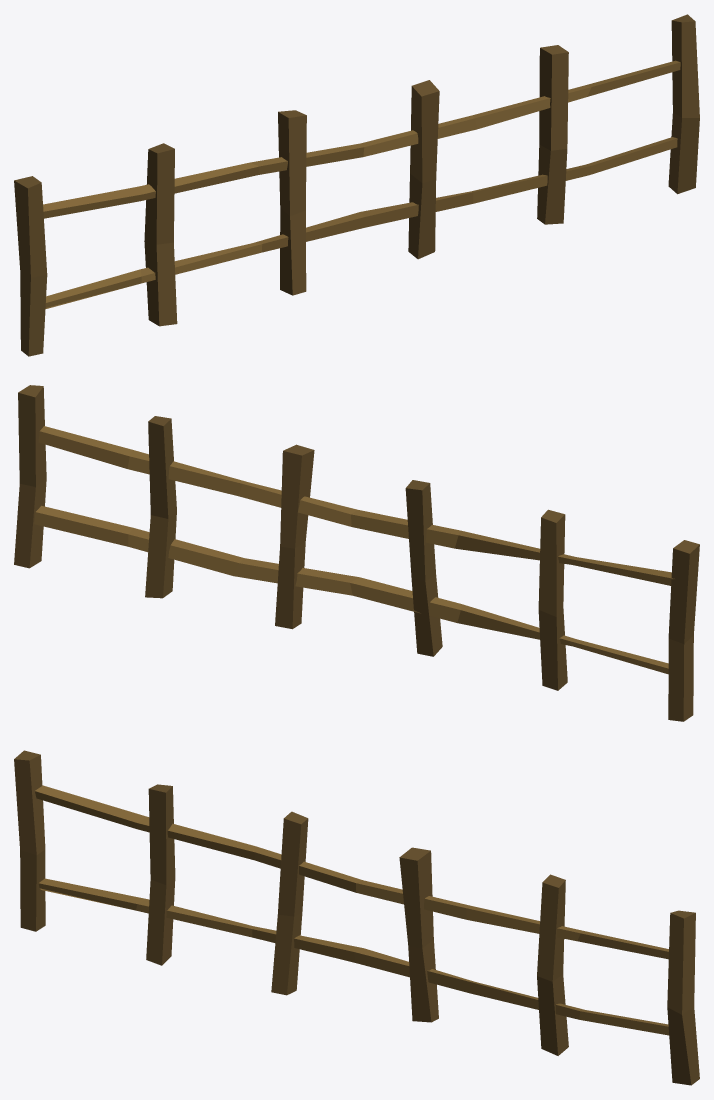
Rendered from wood fence1.fbx.
3 views of the same model, one above another, from view 1: azimuth 30°, elevation 25°; view 2: azimuth 150°, elevation 25°; view 3: azimuth 330°, elevation 25° (orthographic).
Parts seen in each view (by area): view 1: fence1_LOD0; view 2: fence1_LOD0; view 3: fence1_LOD0.
Part boxes in pixels (x1,y1,x2,y2): fence1_LOD0: (14,14,699,356); fence1_LOD0: (14,385,699,721); fence1_LOD0: (14,750,699,1085).
Size of what is drawn, in the model's own units: 9.45 by 2.33 by 0.5124.
